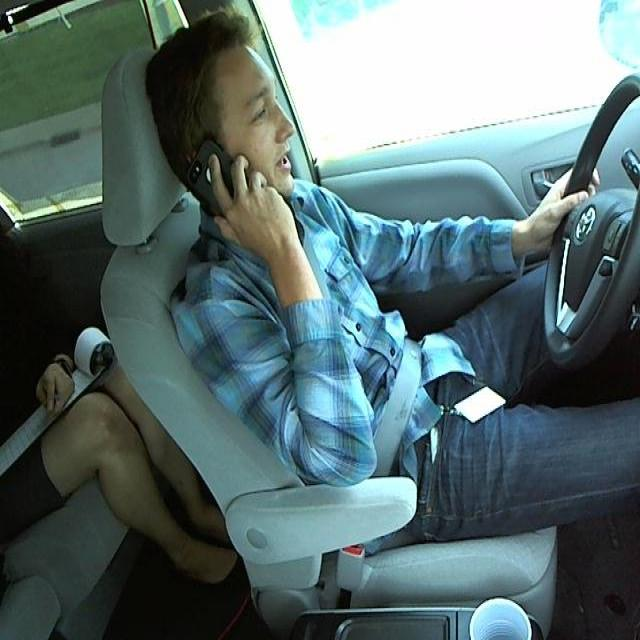using_phone: (92, 6, 353, 260)
